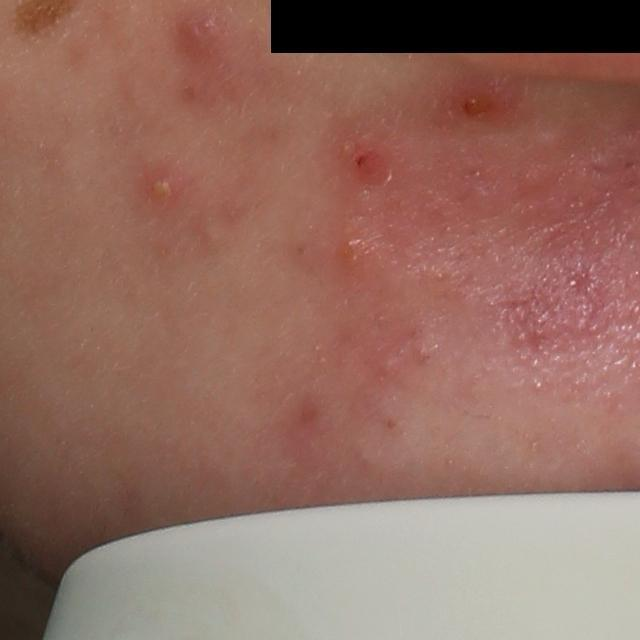atrophic_scar: (588, 160, 616, 180)
papule: (174, 4, 235, 66), (445, 85, 514, 121), (338, 143, 385, 183), (338, 232, 381, 272), (376, 349, 409, 380)
pustule: (140, 165, 188, 216)
